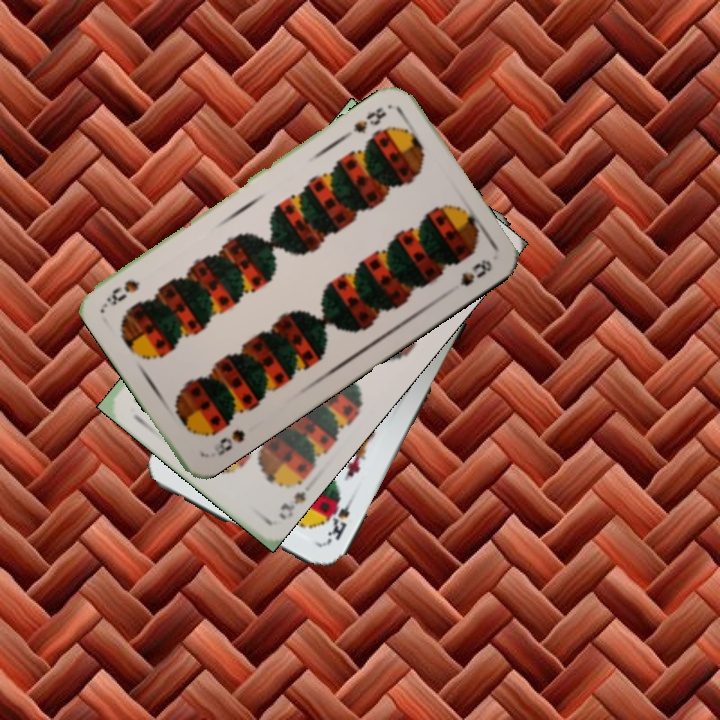S8: (349, 102, 389, 137), (209, 425, 248, 459)
S9: (274, 469, 310, 523)
SK: (322, 491, 358, 546)
